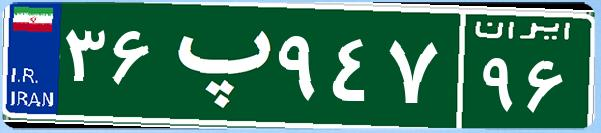3: (57, 26, 110, 107)
4: (330, 28, 385, 110)
6: (110, 28, 158, 105), (525, 38, 570, 115)
7: (385, 28, 445, 110)
9: (273, 28, 330, 110), (475, 38, 525, 113)
پ: (158, 15, 273, 115)
